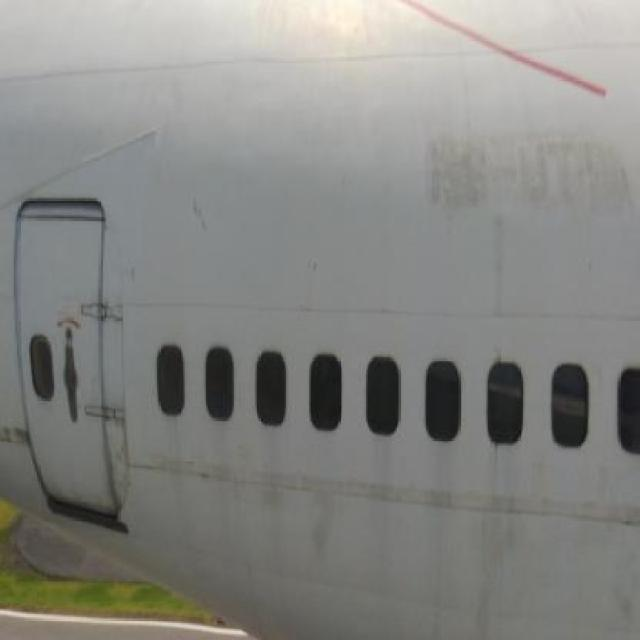Scartch: (417, 117, 637, 229), (100, 408, 143, 522), (0, 426, 35, 467)
